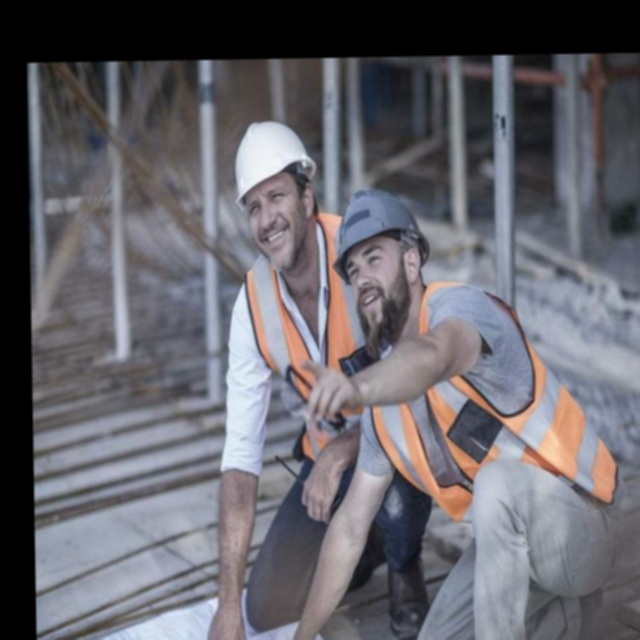Con_Casco: (237, 123, 314, 259)
Con_Chaleco: (364, 301, 628, 509)
